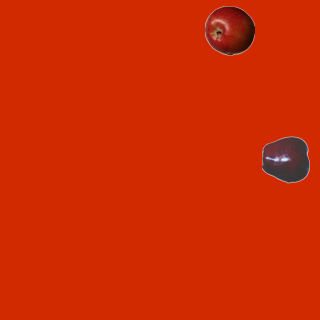Apple Braeburn: (204, 5, 254, 55)
Apple Red Delicious: (261, 134, 311, 184)
